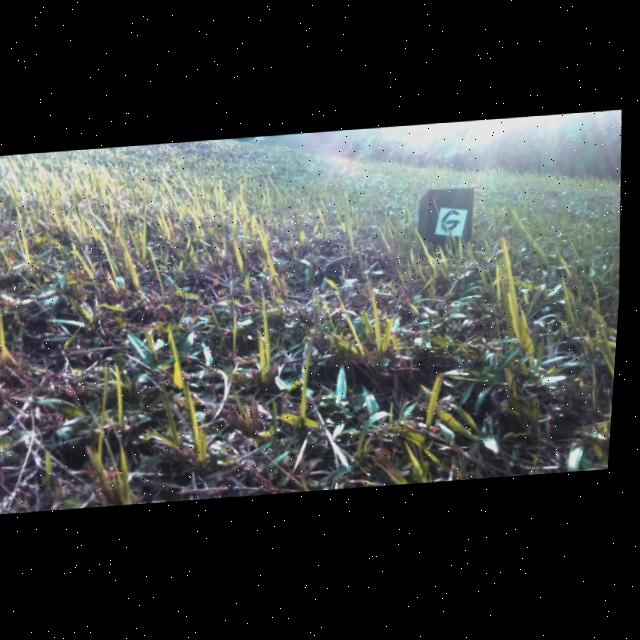G: (445, 213, 462, 233)
